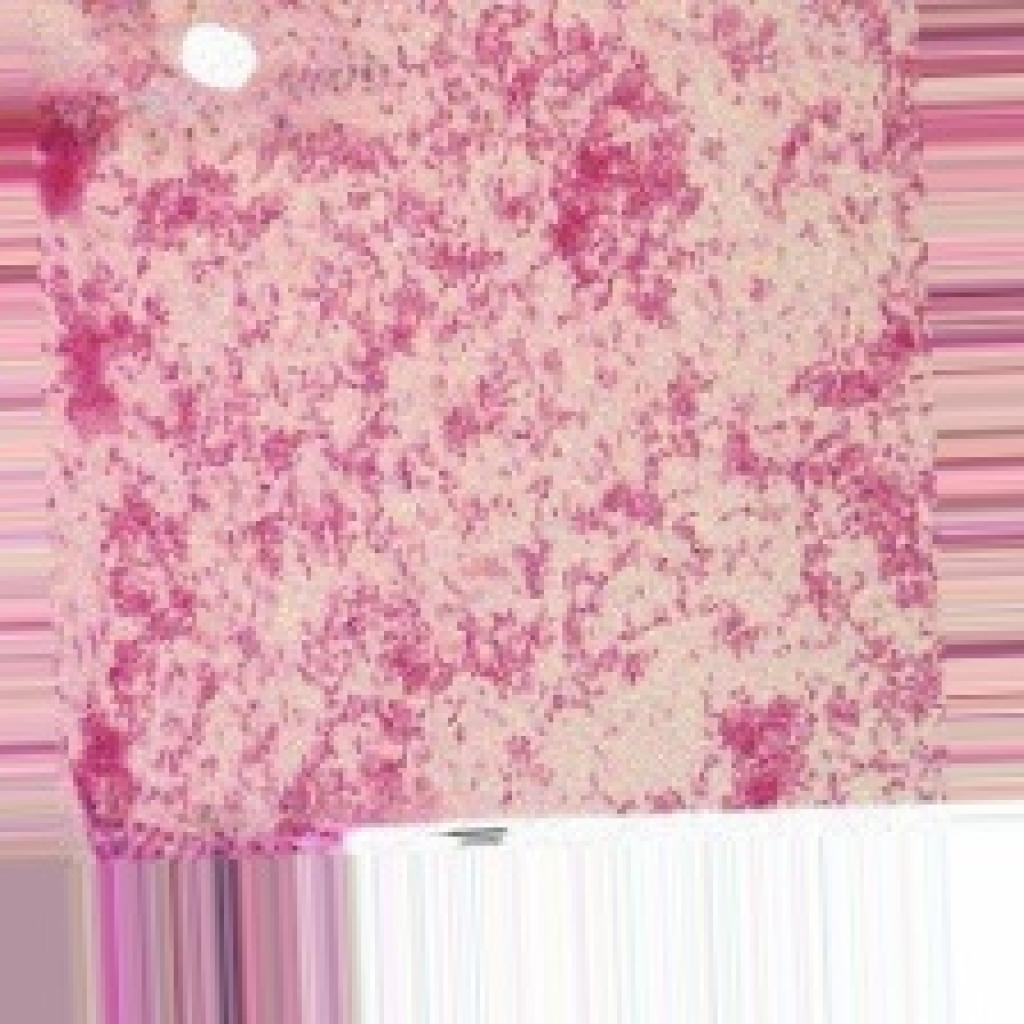Rodbacteria: (23, 0, 951, 864)
